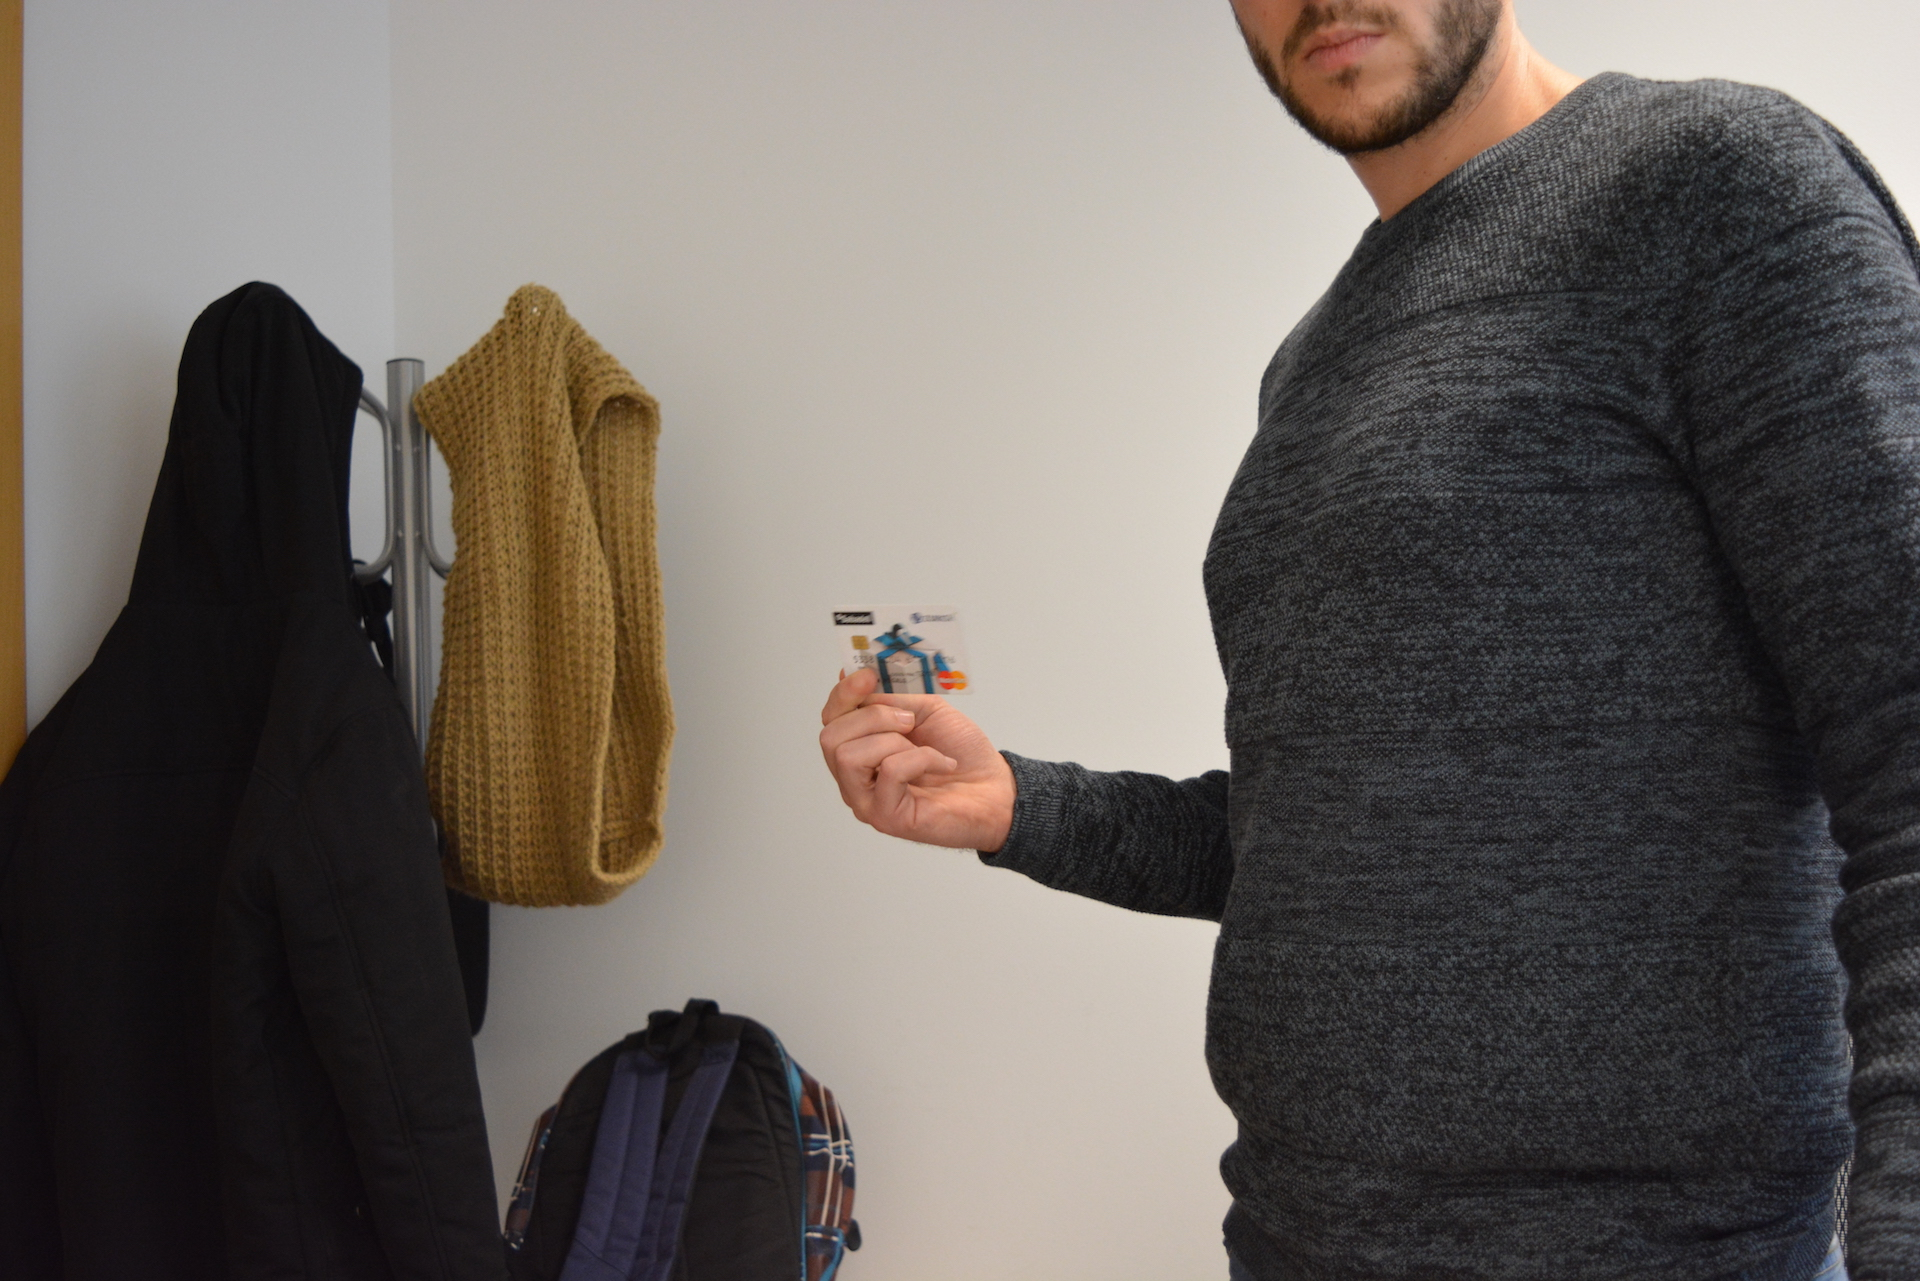tarjeta: (826, 603, 976, 698)
